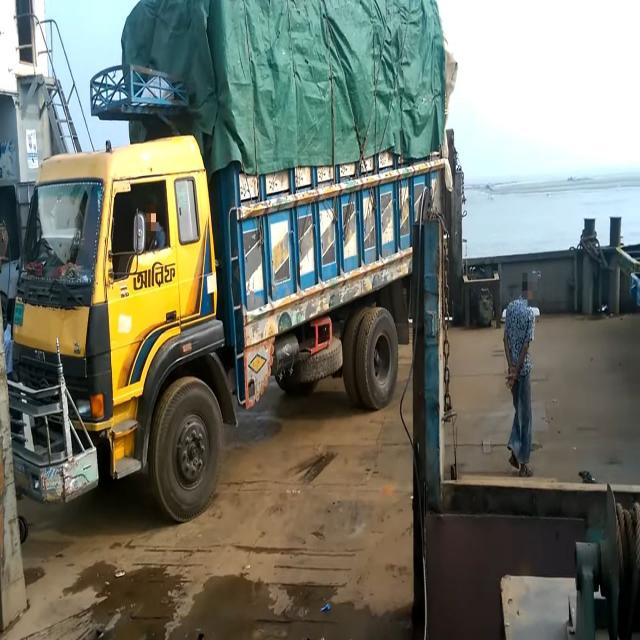truck: (14, 0, 445, 501)
